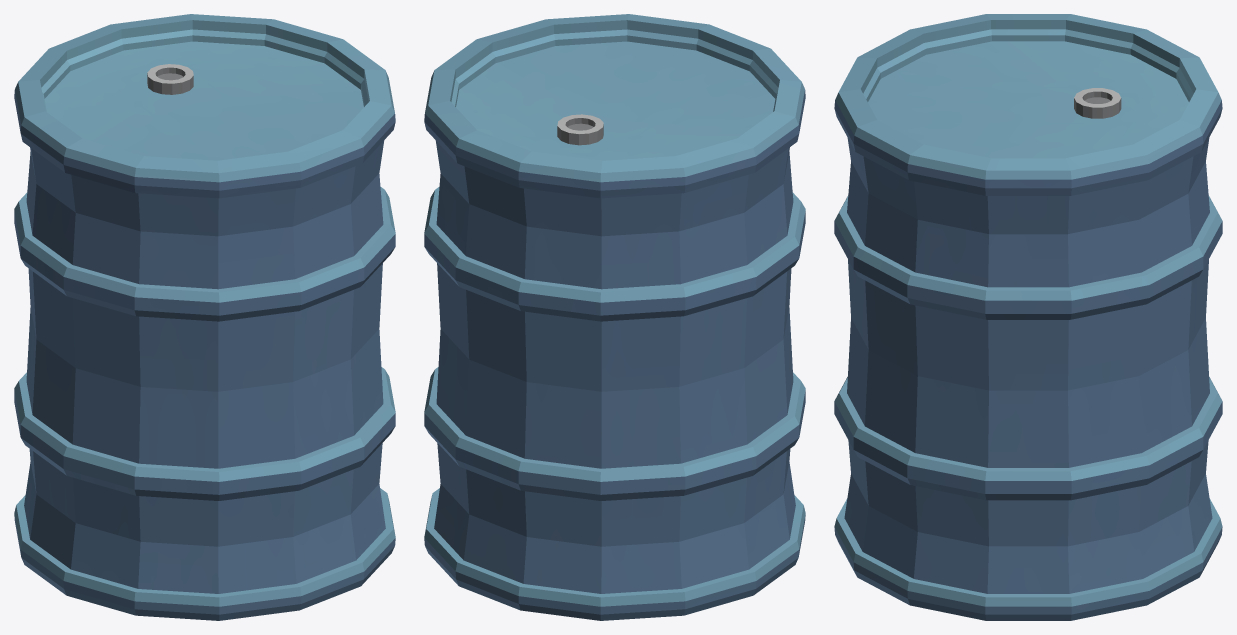
The model's file is barrel.dae.
3 renders of one model, left to right at view 1: azimuth 30°, elevation 25°; view 2: azimuth 150°, elevation 25°; view 3: azimuth 270°, elevation 25°, orthographic.
Parts seen in each view (by area): view 1: barrel; view 2: barrel; view 3: barrel.
Part boxes in pixels (x1,y1,x2,y2): barrel: (14,14,395,620); barrel: (424,14,805,620); barrel: (834,14,1222,620).
Size of the model in its own units: 0.6817 by 0.6992 by 0.9079.
